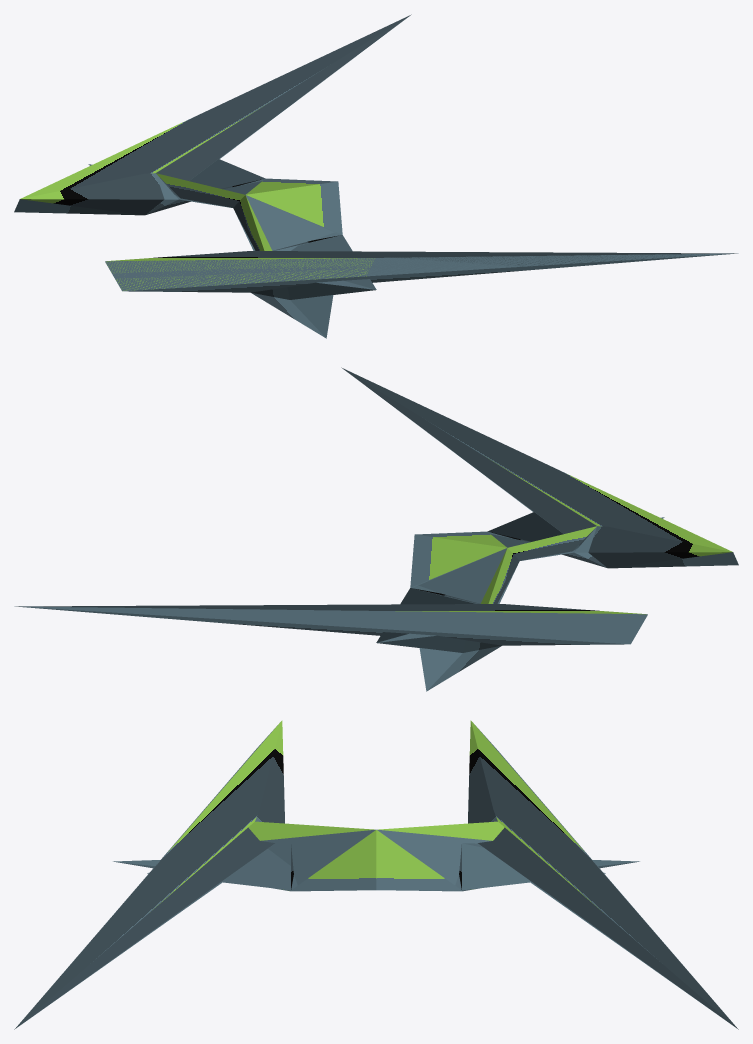
File: spaceship3.glb
3 views of the same model, one above another, from view 1: azimuth 30°, elevation 25°; view 2: azimuth 150°, elevation 25°; view 3: azimuth 270°, elevation 25° (orthographic). The views are drawn at different scales.
Visible parts, largest first — view 1: Cube; view 2: Cube; view 3: Cube.
Part boxes in pixels (x1,y1,x2,y2): Cube: (14, 14, 738, 338); Cube: (14, 367, 738, 691); Cube: (14, 720, 738, 1029).
Bounding box in the file's own units: 4.47 × 0.5039 × 4.93.
1 material, 1 textured.
